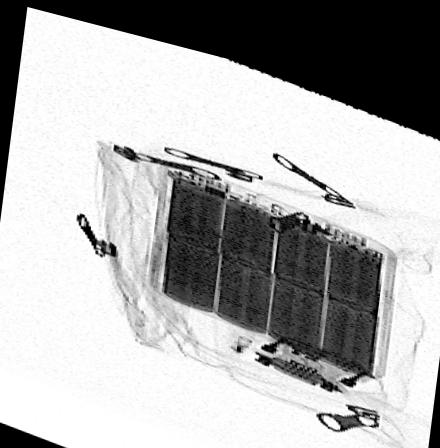Powerbank: (146, 155, 399, 357)
